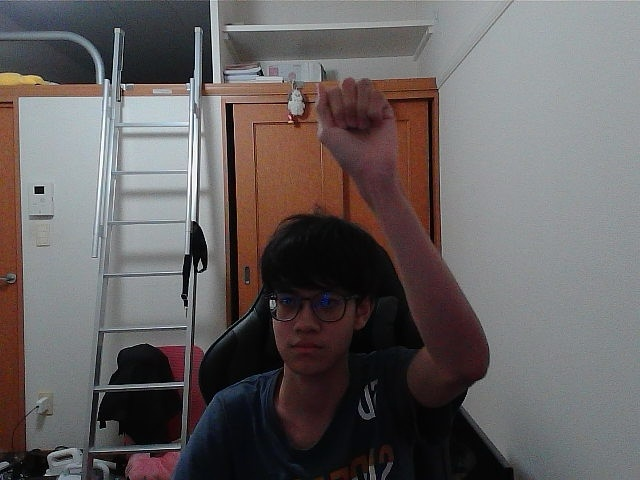closed_palm: (321, 85, 380, 150)
